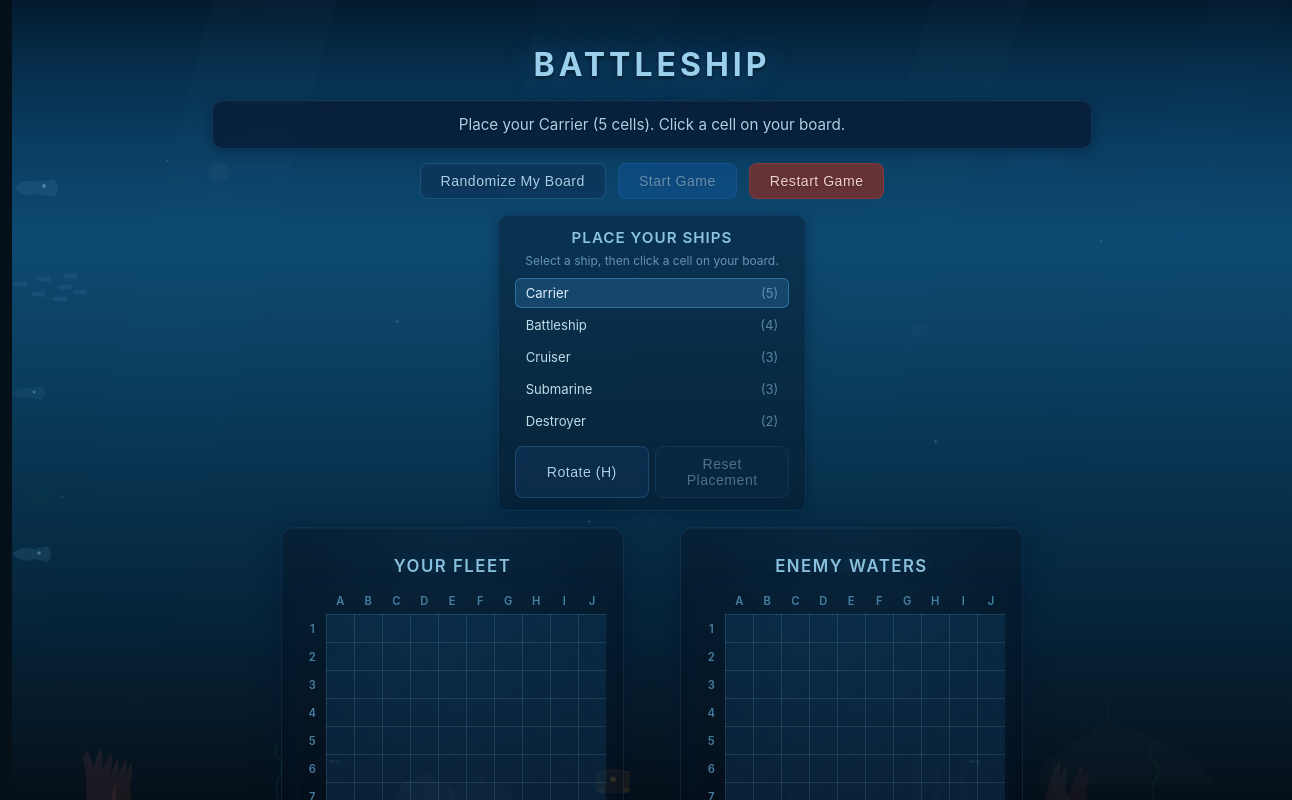
Test: App integration › manual ship placement › manual placement then start game works for gameplay
This screenshot has width=1292, height=800.
Click the cell named "Row 1, Column A, empty" below "Your Fleet" at [340, 629], box [326,615,354,643]
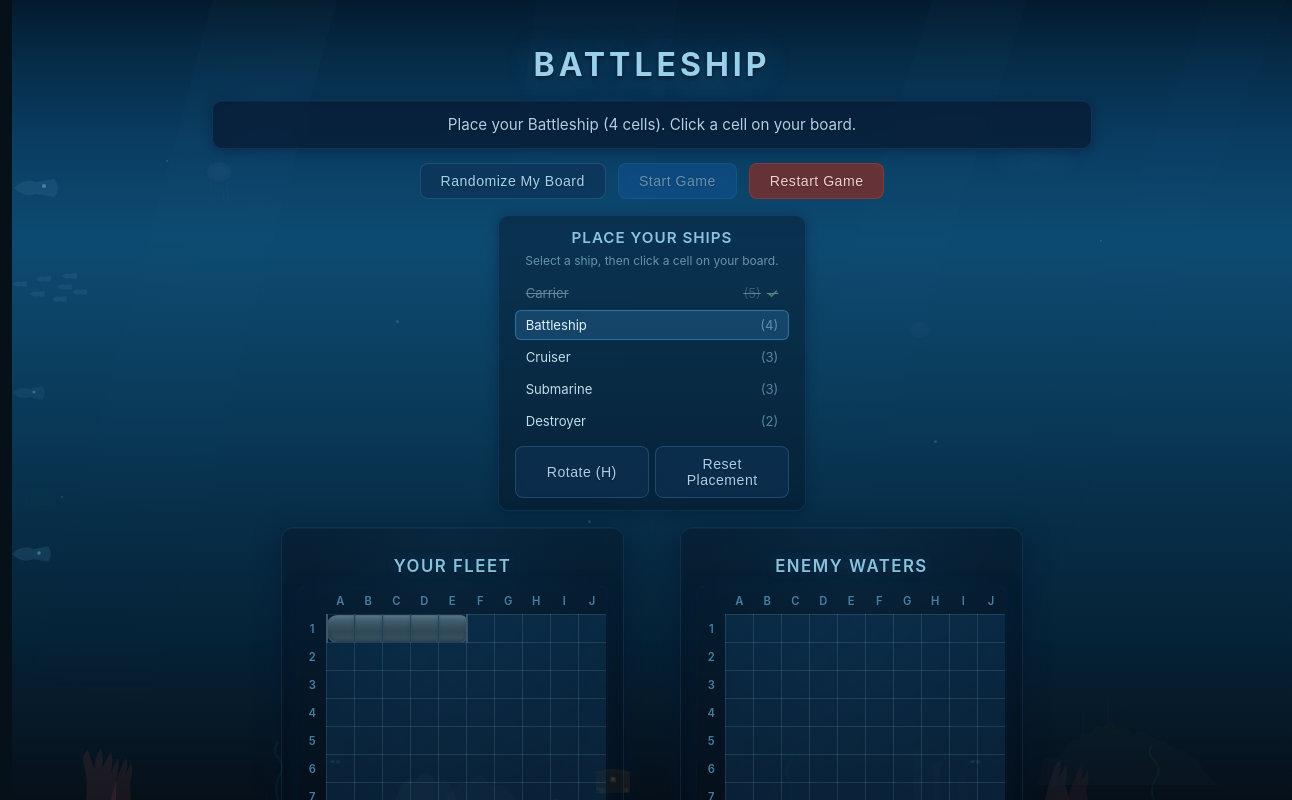
// Battleship (4) at row 1
Click the cell named "Row 2, Column A, empty" below "Your Fleet" at [340, 657], box [326,643,354,671]
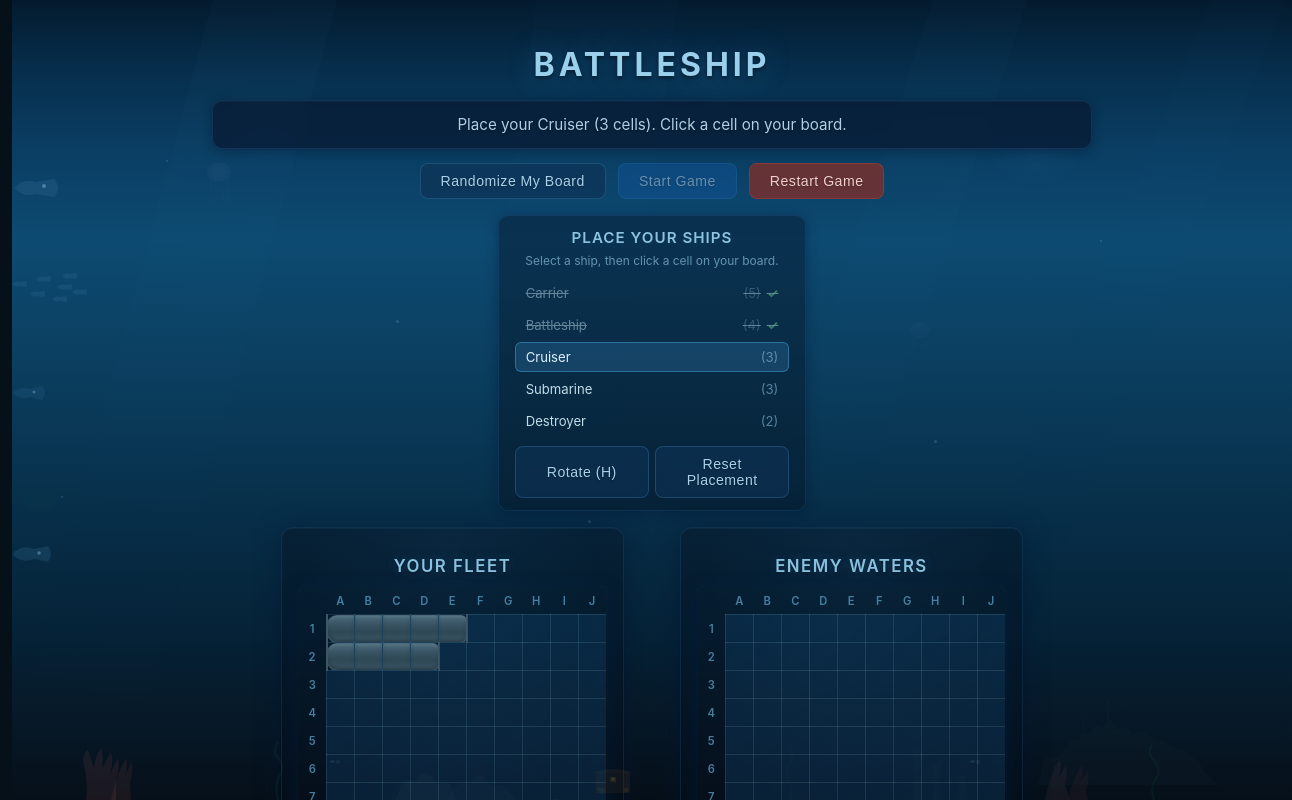
// Cruiser (3) at row 2
Click the cell named "Row 3, Column A, empty" below "Your Fleet" at [340, 685], box [326,671,354,699]
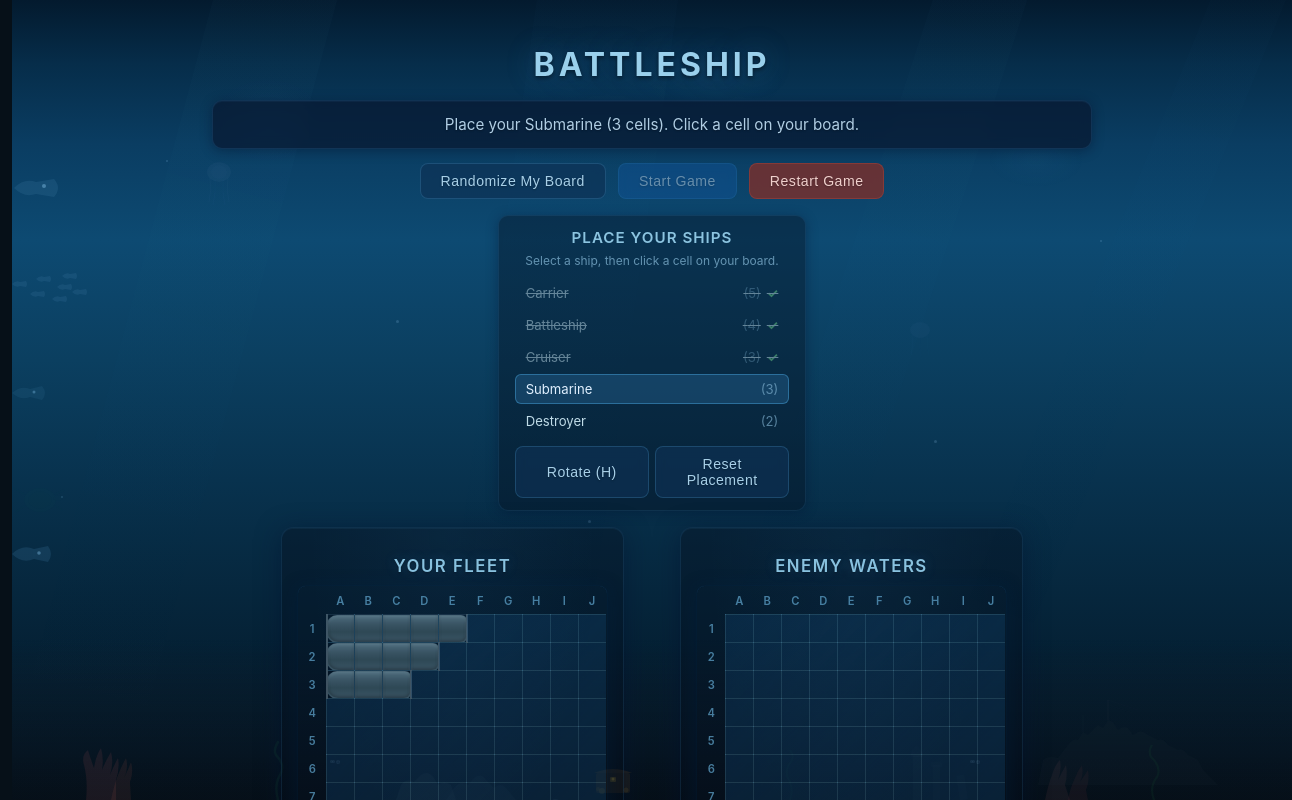
// Submarine (3) at row 3
Click the cell named "Row 4, Column A, empty" below "Your Fleet" at [340, 713], box [326,699,354,727]
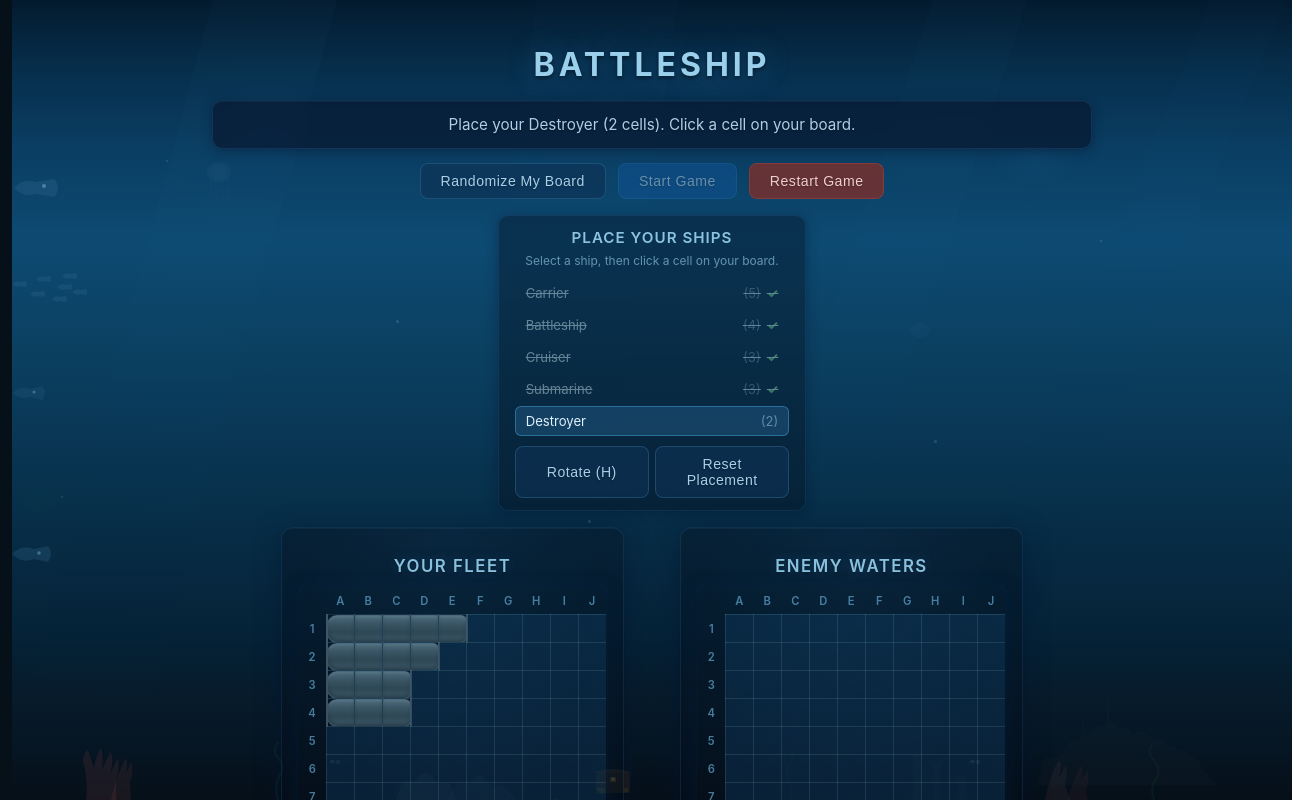
// Destroyer (2) at row 4
Click the cell named "Row 5, Column A, empty" below "Your Fleet" at [340, 741], box [326,727,354,755]
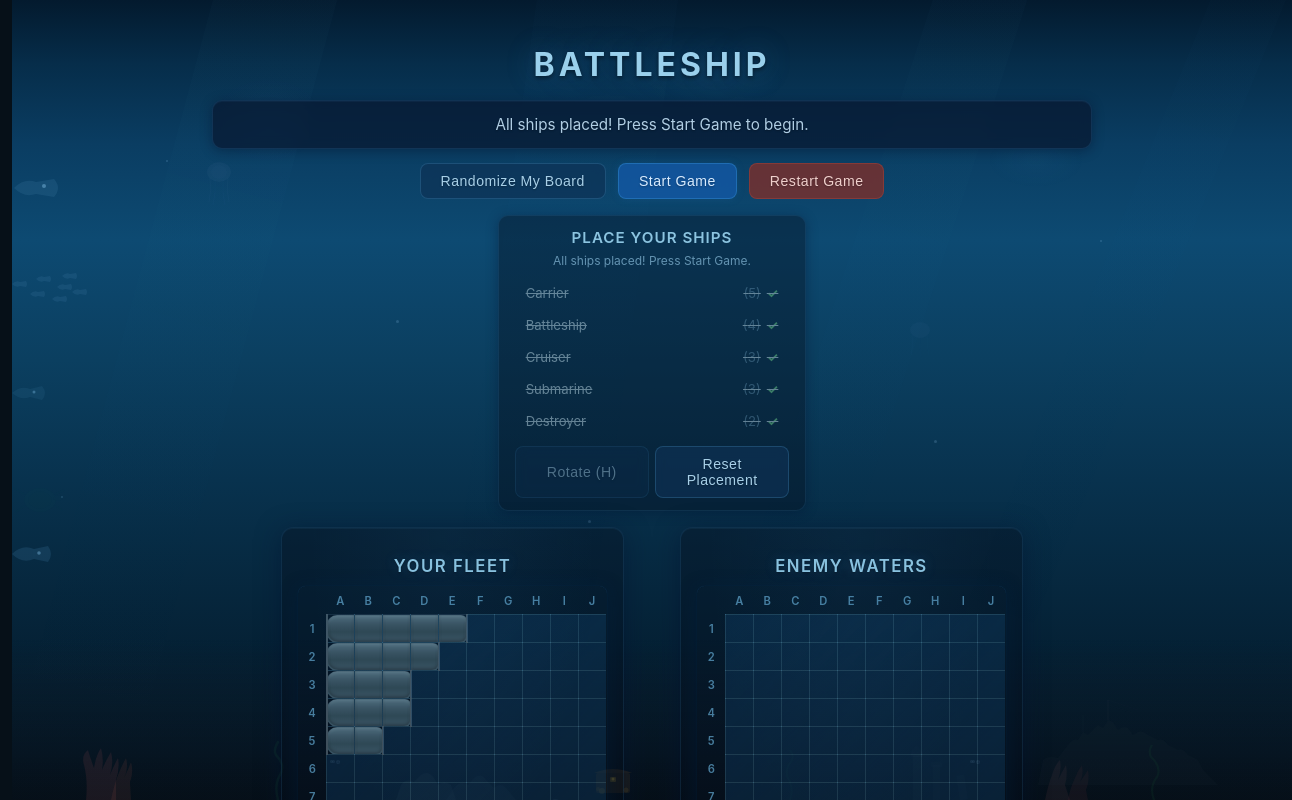
Check: the button "Start Game" is enabled
Click the button "Start Game" at [677, 181], box [618,163,737,199]
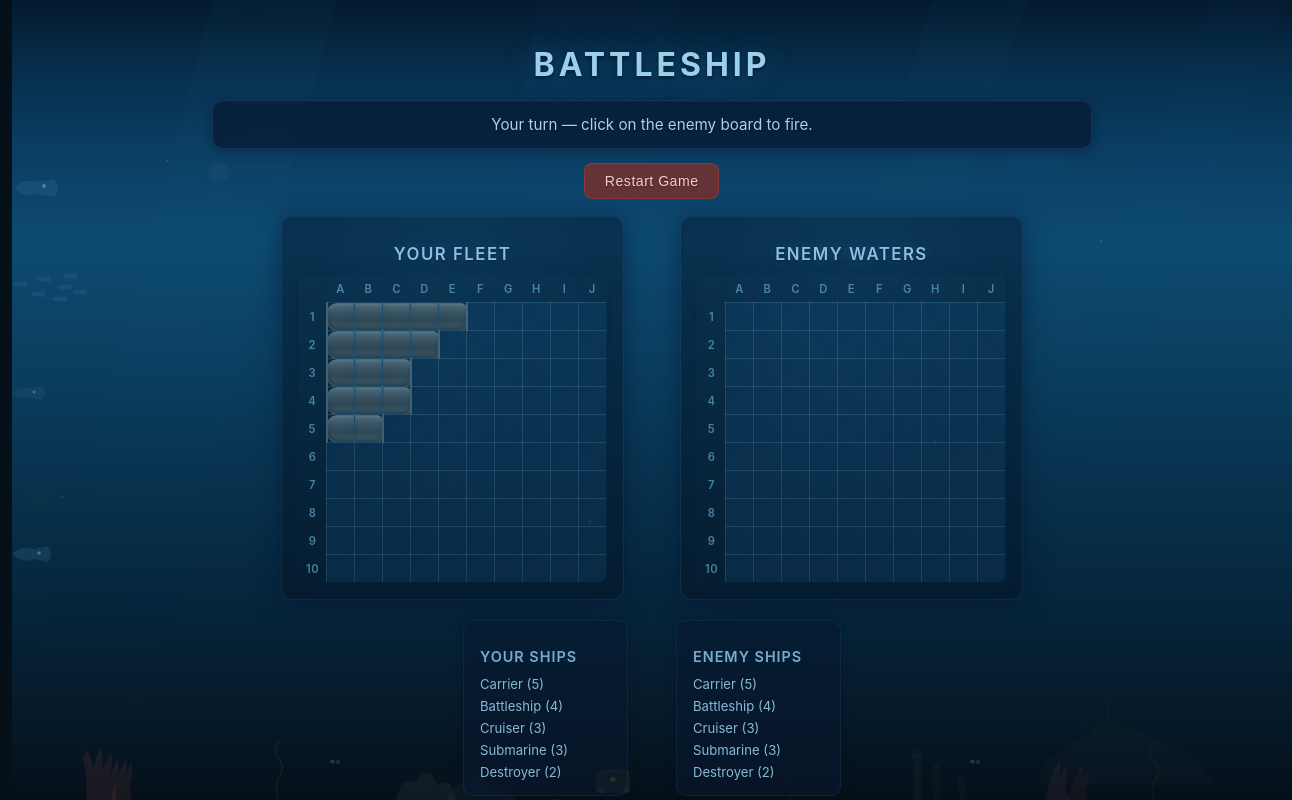
Check: the text "Your turn — click on the enemy board to fire." is shown, box [491,115,813,134]
